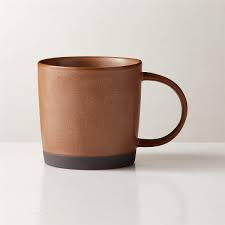mug: (25, 49, 192, 184)
